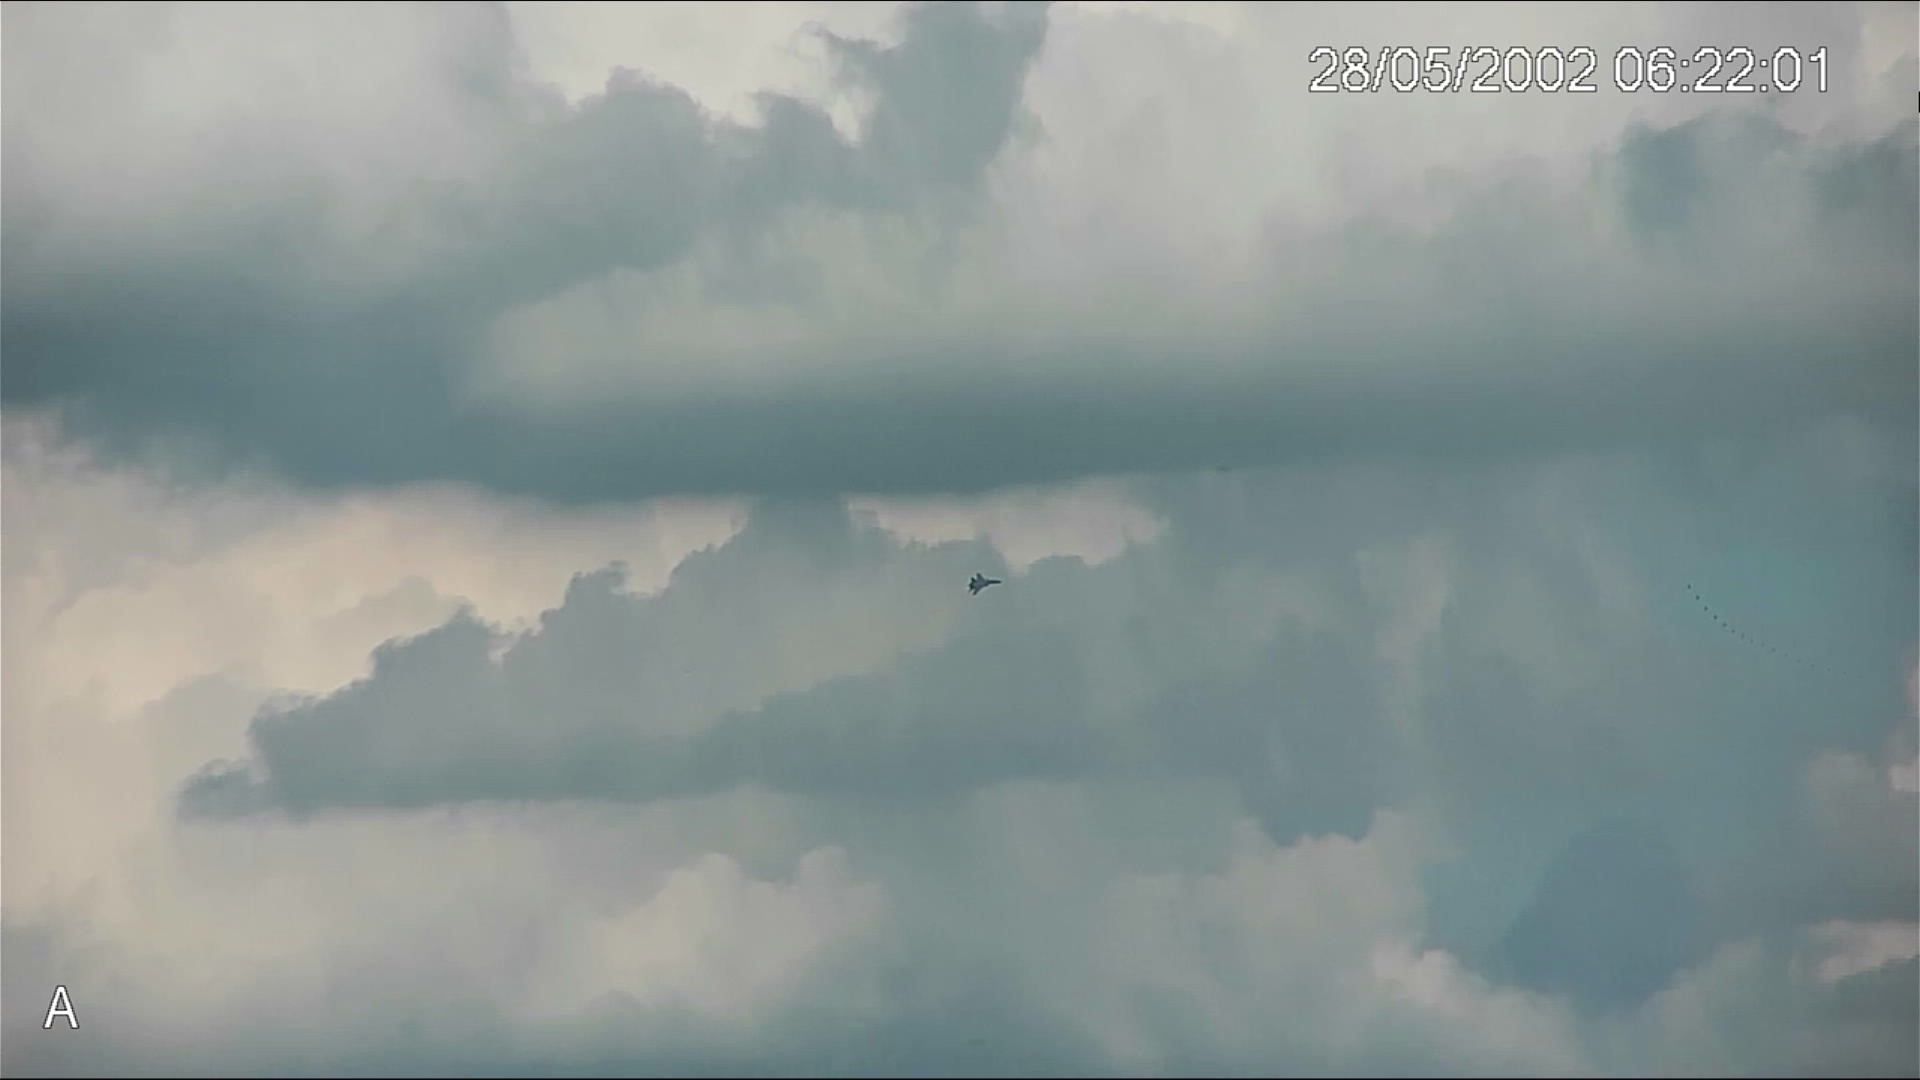SU_30: (964, 571, 1004, 597)
